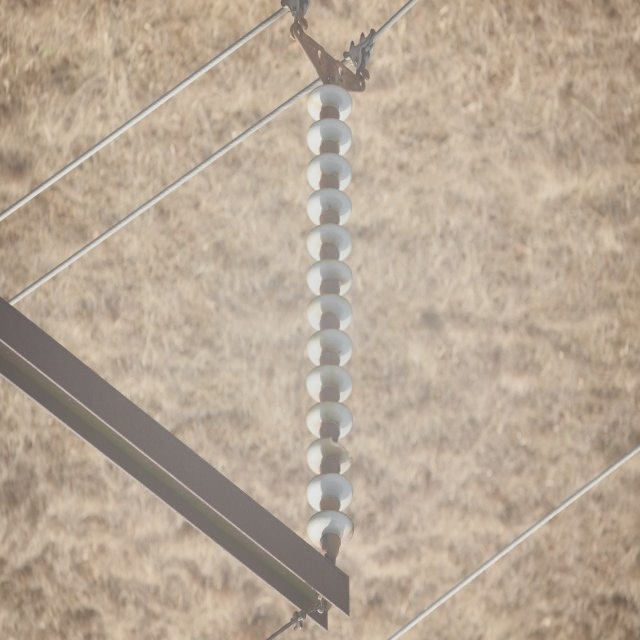broken: (328, 431, 354, 466)
insulator: (303, 85, 355, 547)
